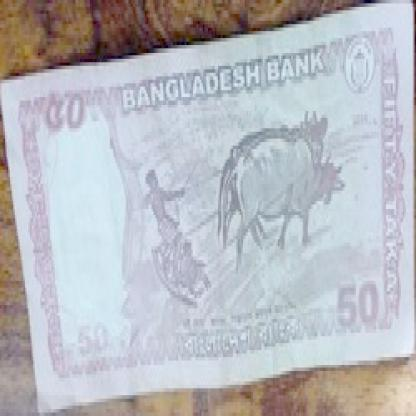Fifty taka: (43, 90, 93, 160), (324, 267, 380, 326)
